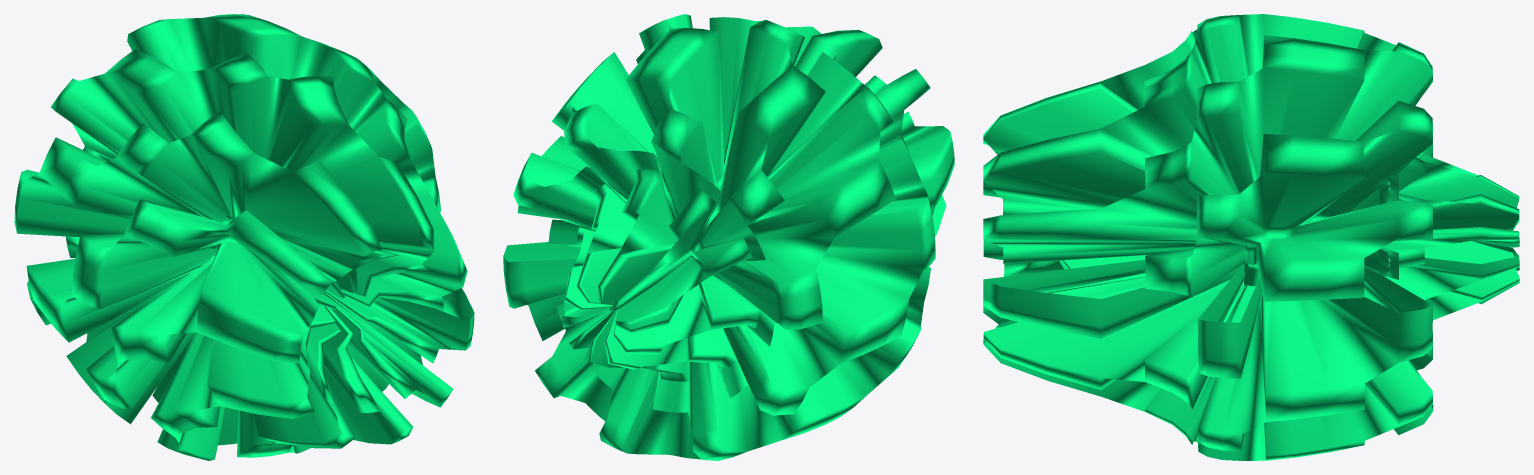
The model's file is null_set_empty_sketchfab_animated_1765638641272.glb.
The picture shows the model from 3 angles, left to right: view 1: azimuth 30°, elevation 25°; view 2: azimuth 150°, elevation 25°; view 3: azimuth 270°, elevation 25°; orthographic projection. The views are drawn at different scales.
Parts seen in each view (by area): view 1: MathShape; view 2: MathShape; view 3: MathShape.
Boxes of the visible parts, box(x1,y1,x2,y2) form: MathShape: box(14, 14, 474, 460); MathShape: box(503, 14, 954, 460); MathShape: box(983, 14, 1519, 460).
Size of the model in its own units: 1.86 by 1.99 by 2.36.
